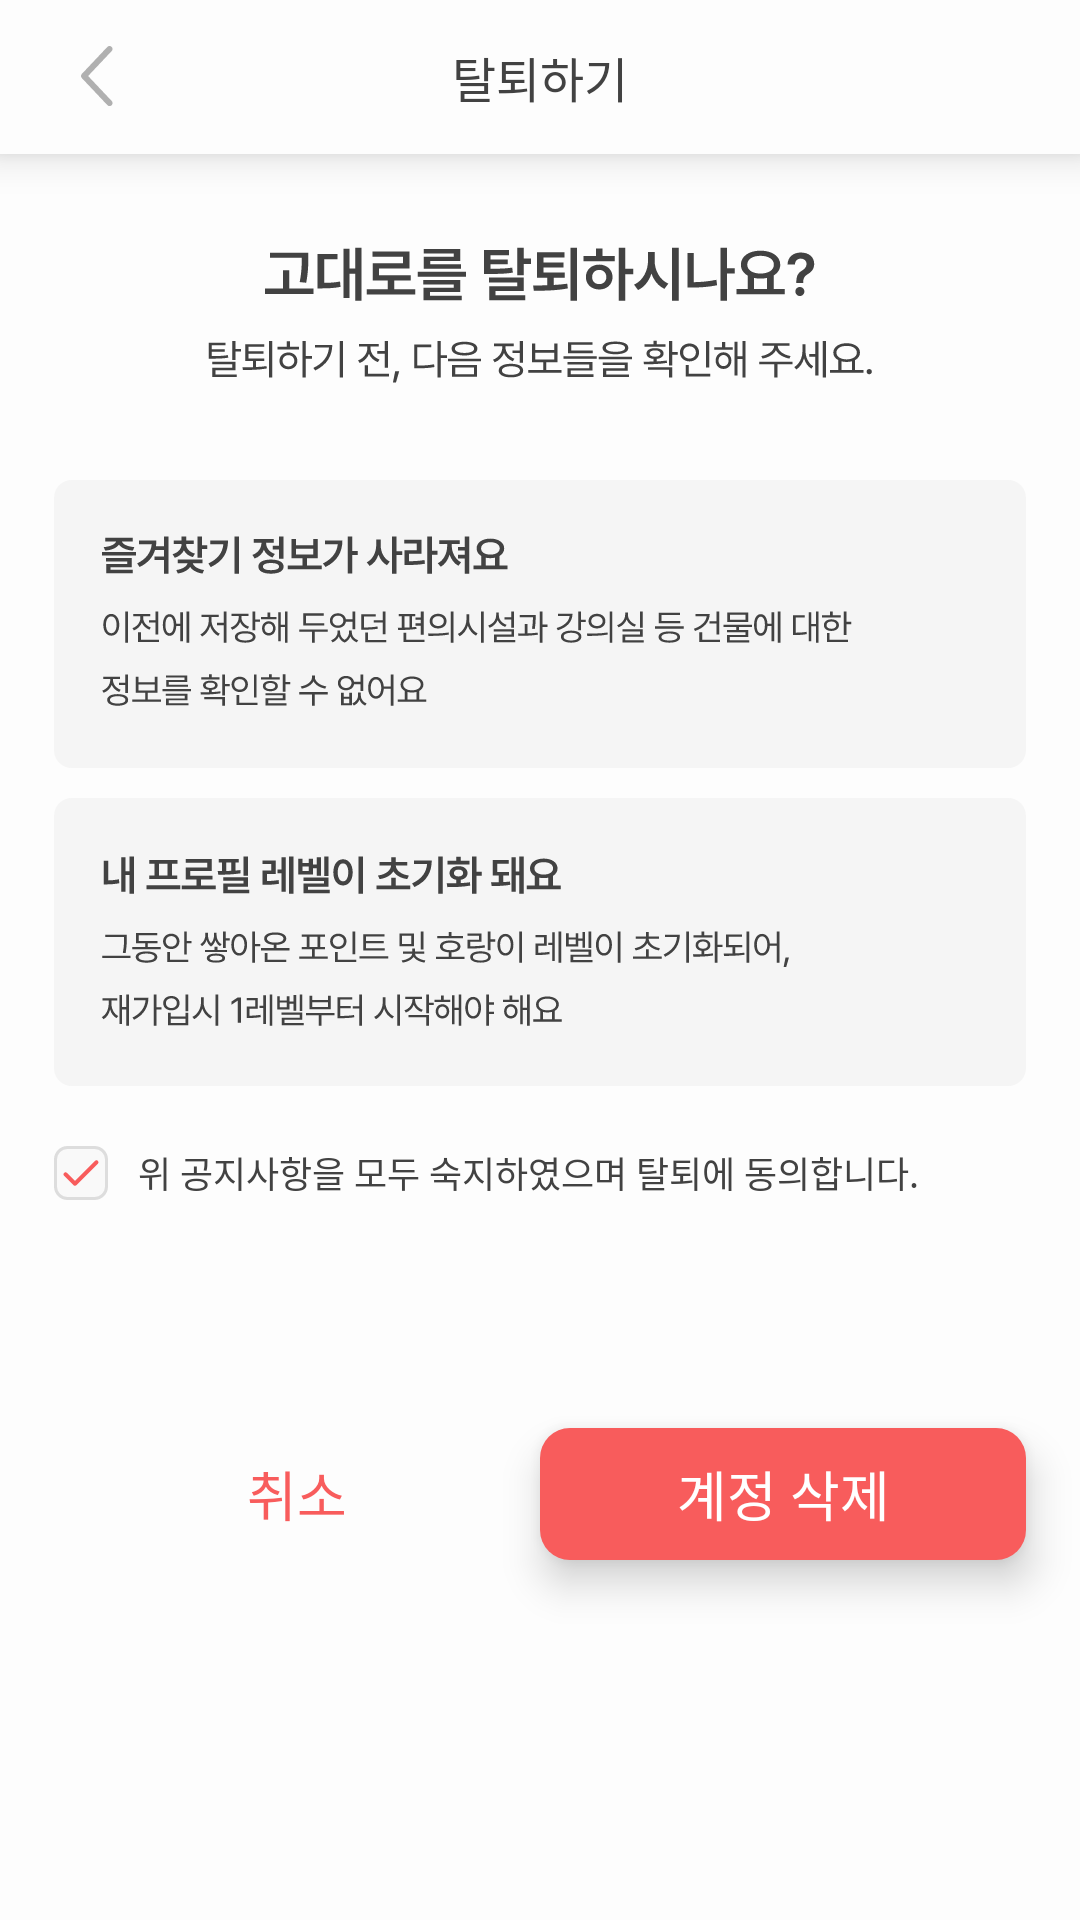

Screen size 1080 × 1920. Icon name, then its center in pixels as (x,y):
back arrow: (97,76)
check: (81,1173)
